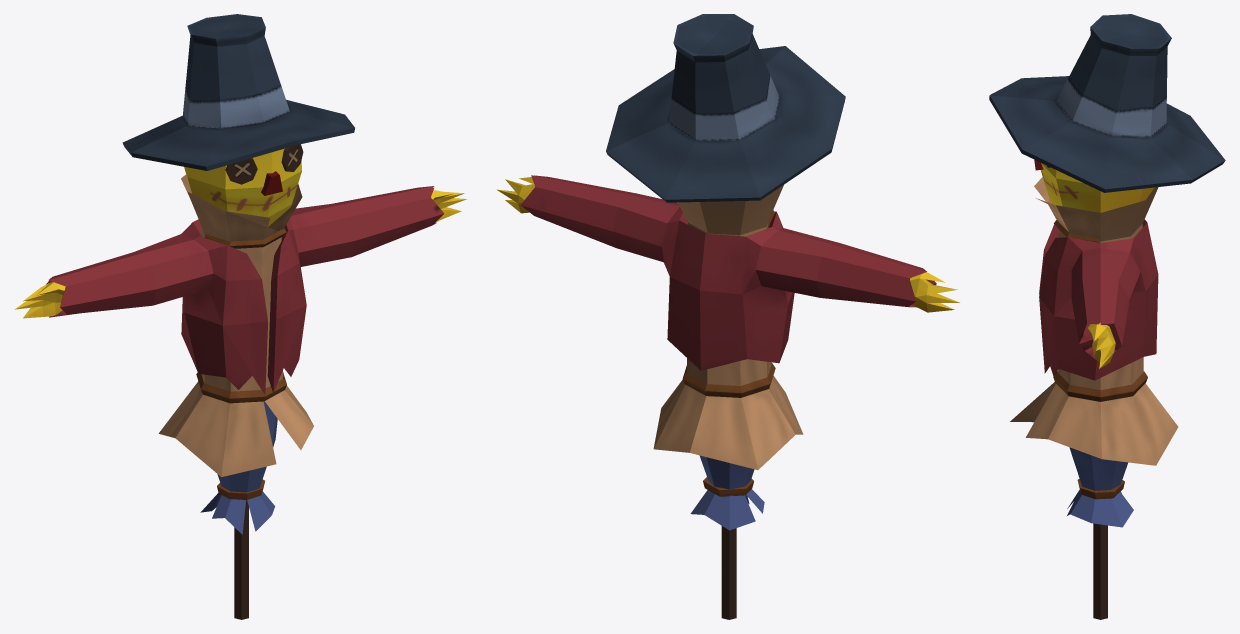
File: Scarecrow.FBX
3 renders of one model, left to right at view 1: azimuth 30°, elevation 25°; view 2: azimuth 150°, elevation 25°; view 3: azimuth 270°, elevation 25°, orthographic. The views are drawn at different scales.
Parts seen in each view (by area): view 1: Decor_Scarecrow_mod; view 2: Decor_Scarecrow_mod; view 3: Decor_Scarecrow_mod.
Boxes of the visible parts, bbox=[...] form: Decor_Scarecrow_mod: bbox=[15, 14, 466, 619]; Decor_Scarecrow_mod: bbox=[497, 14, 959, 619]; Decor_Scarecrow_mod: bbox=[989, 14, 1225, 619].
Bounding box in the file's own units: 2.55 × 3.14 × 1.14.
